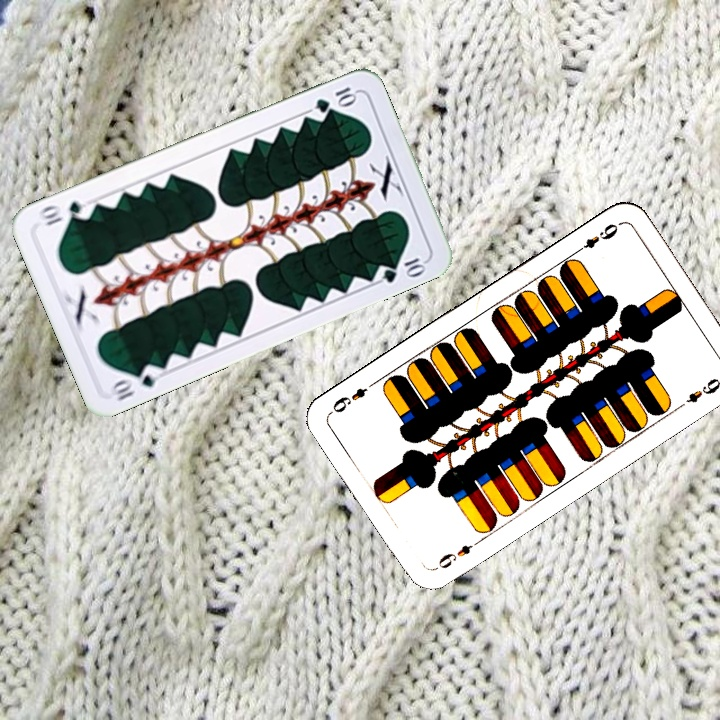E9: (431, 535, 484, 573), (570, 219, 622, 257)
G10: (105, 360, 165, 404), (311, 82, 359, 116)
